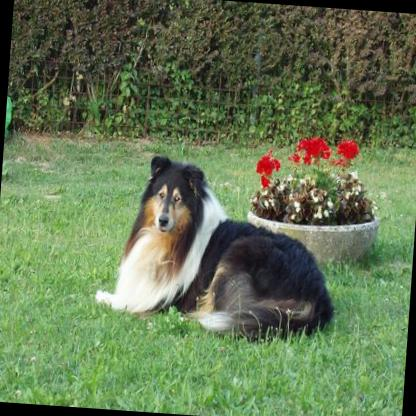collie: (90, 149, 343, 337)
